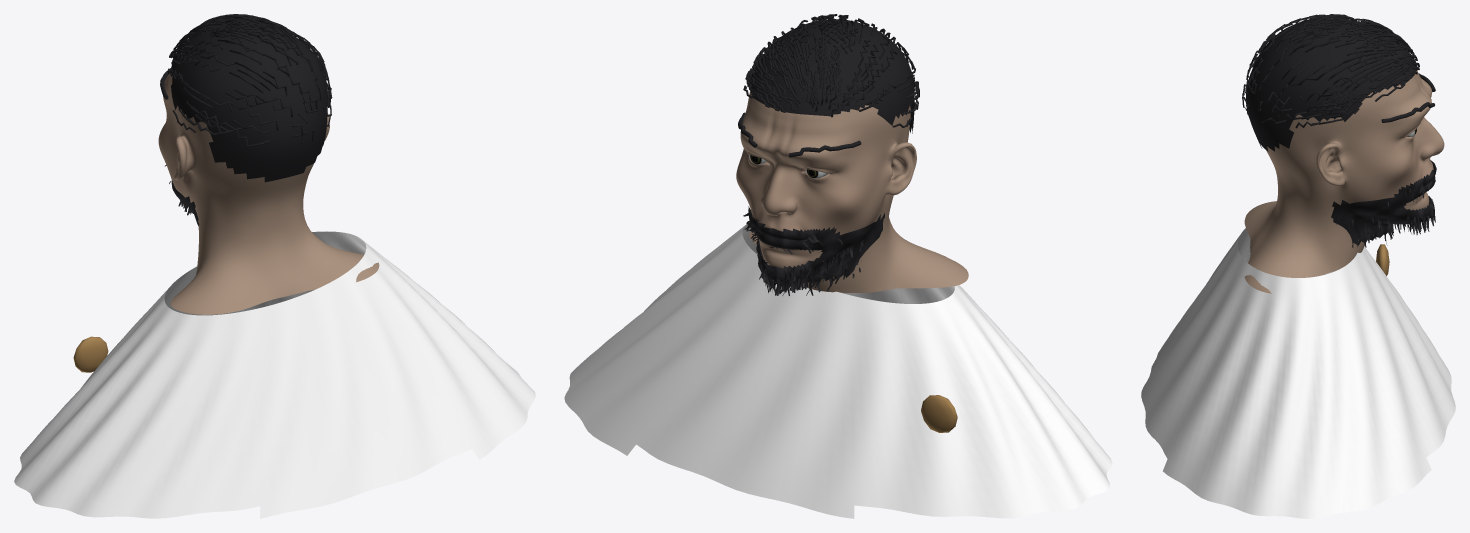
The model's file is envoy_011.glb.
3 renders of one model, left to right at view 1: azimuth 30°, elevation 25°; view 2: azimuth 150°, elevation 25°; view 3: azimuth 270°, elevation 25°, orthographic. The views are drawn at different scales.
Parts seen in each view (by area): view 1: Folded shoulder mantle, Envoy 011 body, Envoy 011 fitted scalp, Shoulder clasp; view 2: Folded shoulder mantle, Envoy 011 body, Envoy 011 fitted scalp, Hades beard hair shell, Hades beard hair cards, Shoulder clasp; view 3: Folded shoulder mantle, Envoy 011 body, Envoy 011 fitted scalp, Hades beard hair shell, Hades beard hair cards.
Boxes of the visible parts, box(x1,y1,x2,y2) form: Folded shoulder mantle: box(14, 231, 535, 518); Envoy 011 body: box(158, 70, 379, 314); Envoy 011 fitted scalp: box(171, 18, 327, 182); Shoulder clasp: box(73, 336, 108, 372); Folded shoulder mantle: box(564, 224, 1112, 518); Envoy 011 body: box(736, 91, 968, 292); Envoy 011 fitted scalp: box(749, 19, 914, 133); Hades beard hair shell: box(748, 206, 884, 282); Hades beard hair cards: box(743, 212, 867, 295); Shoulder clasp: box(921, 395, 957, 432); Folded shoulder mantle: box(1141, 228, 1455, 518); Envoy 011 body: box(1244, 70, 1444, 293); Envoy 011 fitted scalp: box(1246, 18, 1417, 151); Hades beard hair shell: box(1331, 160, 1436, 245); Hades beard hair cards: box(1336, 180, 1435, 247).
Size of the model in its own units: 0.3152 by 0.2464 by 0.1831.
